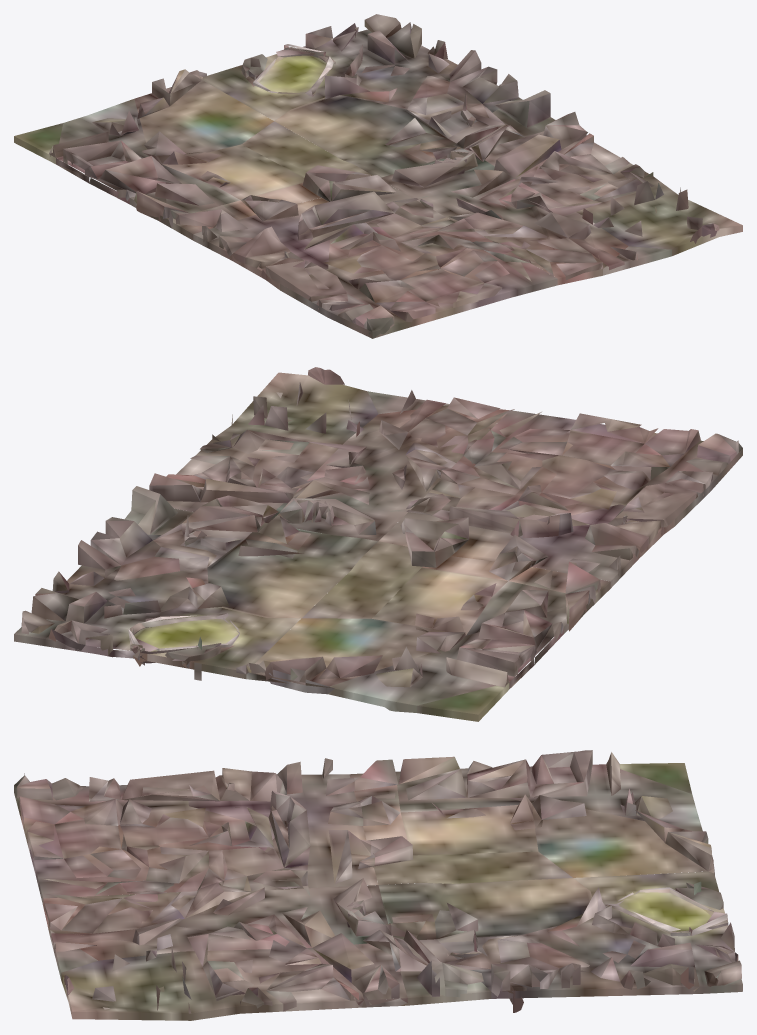
3 views of the same model, one above another, from view 1: azimuth 30°, elevation 25°; view 2: azimuth 150°, elevation 25°; view 3: azimuth 270°, elevation 25° (orthographic). The views are drawn at different scales.
Parts seen in each view (by area): view 1: Mesh_0; view 2: Mesh_0; view 3: Mesh_0.
Boxes of the visible parts, x1,y1,x2,y2 form: Mesh_0: [14, 14, 742, 338]; Mesh_0: [14, 367, 742, 721]; Mesh_0: [14, 750, 742, 1020].
Bounding box in the file's own units: 1064 × 104 × 1318.
Materials: 1 (1 with a texture image).
